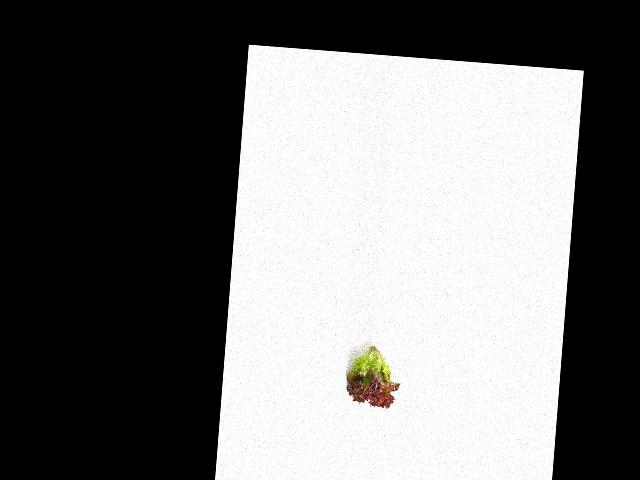lettuce: (343, 336, 401, 412)
